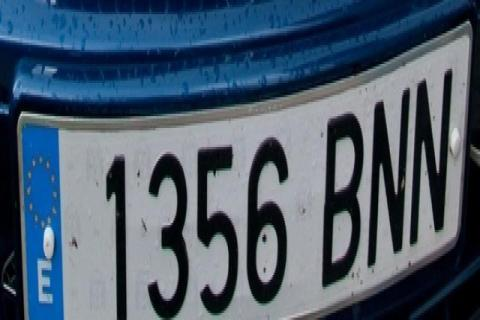LicensePlate: (7, 14, 478, 320)
